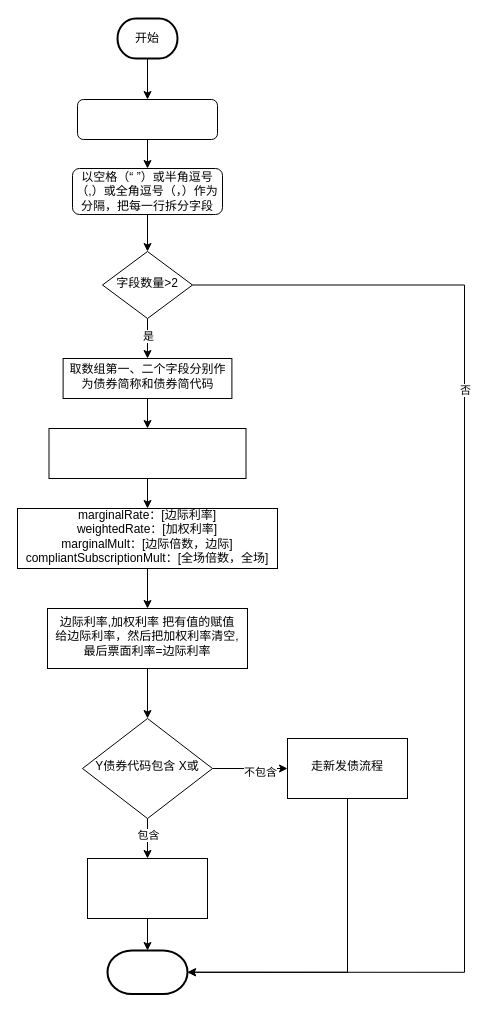
Some shapes in this 490 by 1012 pixel diagram are drawn without their labels. Here are the shapes that lost their labels. From the top down, the centre of each, then its label:
At (x=147, y=119): "根据换行符把文本转成String[]数组".
At (x=147, y=453): "从第3个字段开始循环处理，根据字段的值包含相应的关键字，把对应的值赋给相应的字段".
At (x=147, y=888): "走增发、续发流程".
At (x=147, y=971): "结束".
